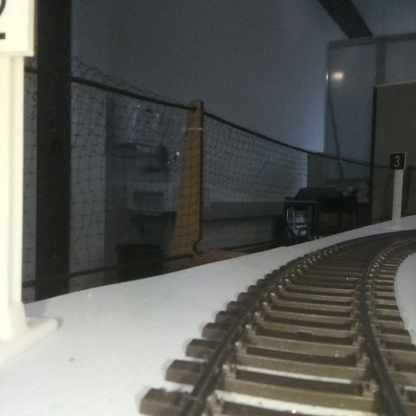black-info-3: (390, 152, 405, 228)
